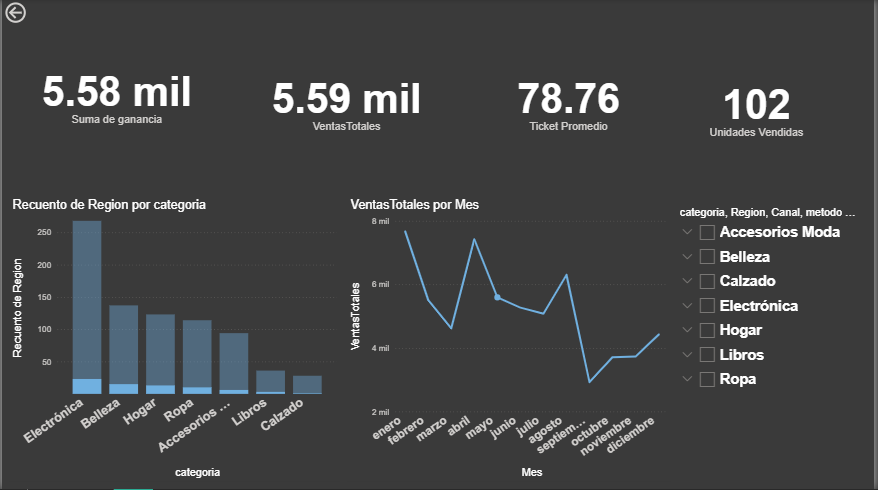

What the dashboard file says about the page in this screenshot:
{"tool":"powerbi","page":{"name":"Página 1","canvas":[1280,720],"ordinal":0},"visuals":[{"type":"card","fields":{"Values":["Sum(TablaVentas.ganancia)"]},"box":[10.5,0,316.7,279.3],"z":0},{"type":"clusteredColumnChart","fields":{"Y":["CountNonNull(TablaVentas.Region)"],"Category":["TablaVentas.categoria"]},"box":[10.1,290.6,487.1,418.3],"z":1},{"type":"lineChart","fields":{"Y":["TablaVentas.VentasTotales"],"Category":["TablaVentas.Fecha.Variación.Jerarquía de fechas.Mes"]},"box":[506.4,291.3,476.5,418.3],"z":3},{"type":"actionButton","box":[0,0,100,40],"z":4},{"type":"card","fields":{"Values":["TablaVentas.VentasTotales"]},"box":[366,10.5,280.8,280.8],"z":5},{"type":"card","fields":{"Values":["TablaVentas.Ticket Promedio"]},"box":[691.6,10.5,280.8,280.8],"z":6},{"type":"card","fields":{"Values":["TablaVentas.Unidades Vendidas"]},"box":[982.9,19.4,251,280.8],"z":7},{"type":"slicer","fields":{"Values":["TablaVentas.categoria","TablaVentas.Region","TablaVentas.Canal","TablaVentas.metodo de pago"]},"box":[982.9,300.2,297.3,409.3],"z":8}]}

Visuals, with their boxes on the page's 1280x720 design canvas (x1, y1, x2, y2). These are canvas units, not pixel positions in the 878x490 screenshot, which may show the page scaled, cropped or inside an application window:
card - Sum(TablaVentas.ganancia): bbox=[10, 0, 327, 279]
clusteredColumnChart - CountNonNull(TablaVentas.Region) x TablaVentas.categoria: bbox=[10, 291, 497, 709]
lineChart - TablaVentas.VentasTotales x TablaVentas.Fecha.Variación.Jerarquía de fechas.Mes: bbox=[506, 291, 983, 710]
actionButton: bbox=[0, 0, 100, 40]
card - TablaVentas.VentasTotales: bbox=[366, 10, 647, 291]
card - TablaVentas.Ticket Promedio: bbox=[692, 10, 972, 291]
card - TablaVentas.Unidades Vendidas: bbox=[983, 19, 1234, 300]
slicer - TablaVentas.categoria x TablaVentas.Region: bbox=[983, 300, 1280, 710]
